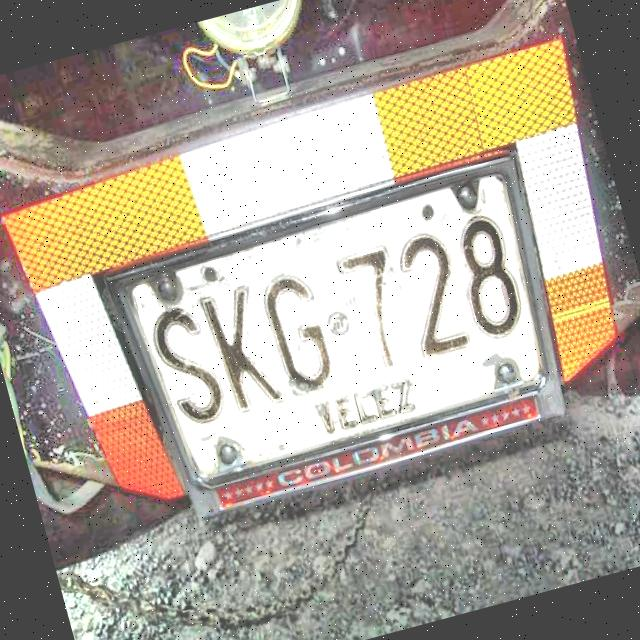plate: (121, 168, 547, 486)
